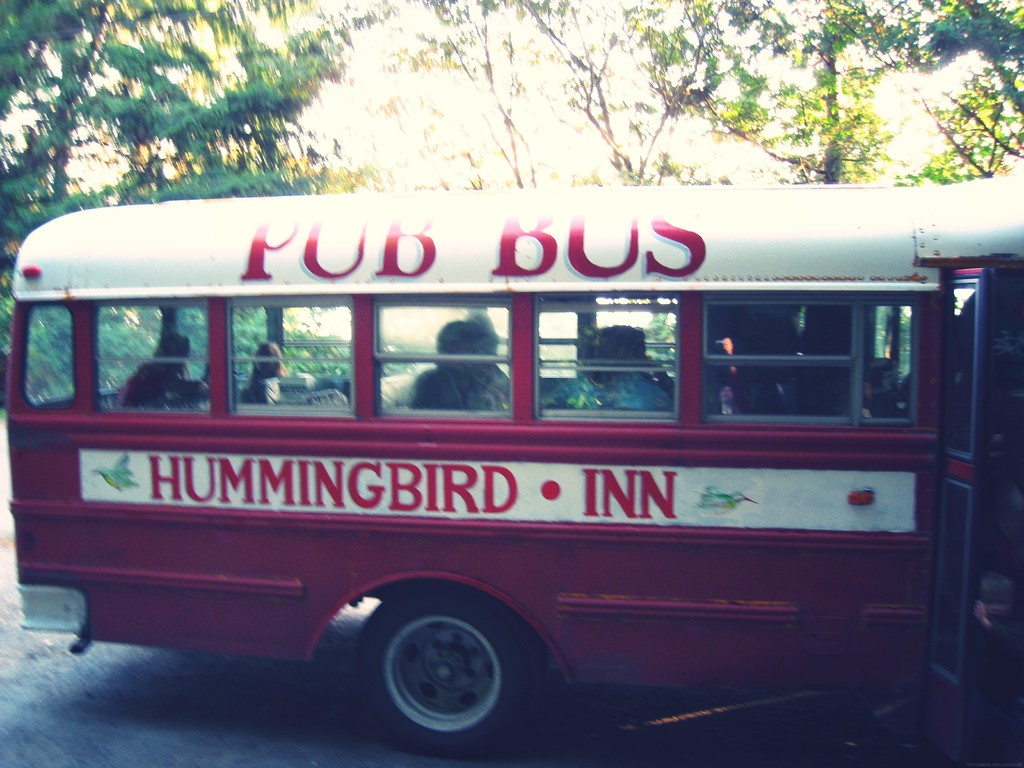Window: (707, 280, 904, 437)
